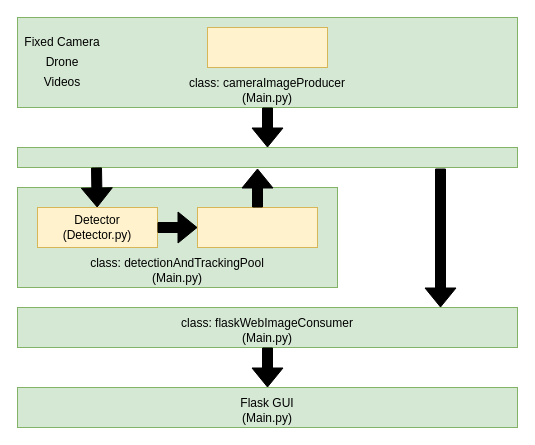
Some shapes in this 535 by 445 pixel diagram are drawn without their labels. Each missing label, with the centre of its shape:
class: PackageList (Package.py): pixel 267 157
Reader (Reader.py): pixel 267 47
Tracker (Tracker.py): pixel 257 227
